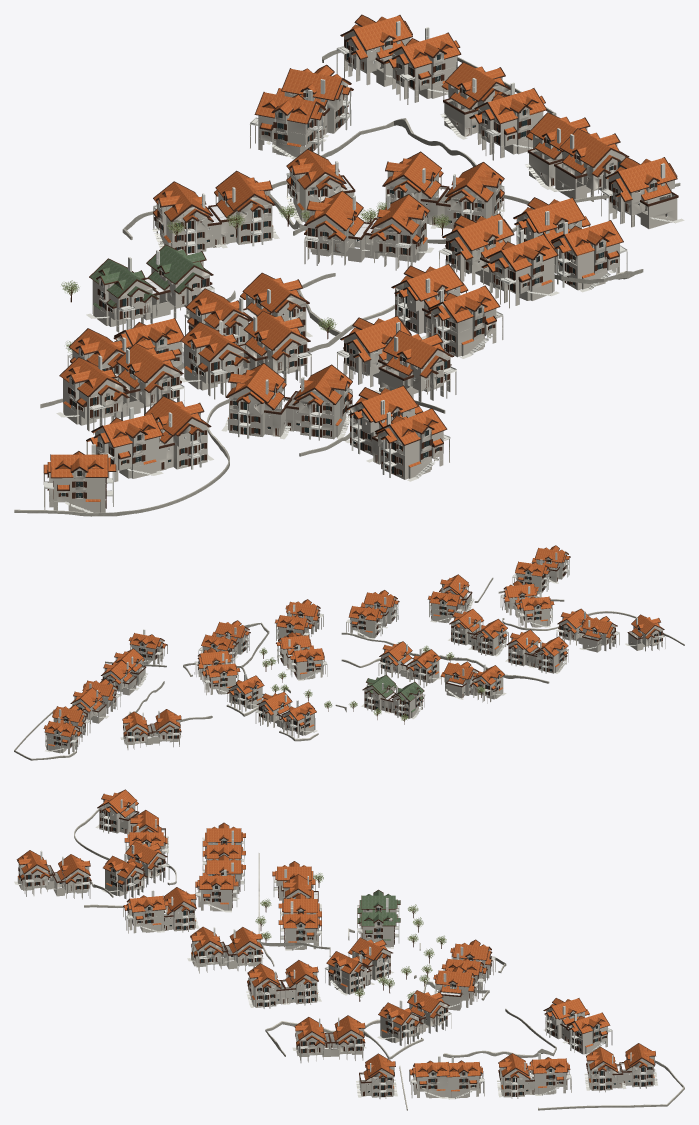
The model's file is evrebina-opt-v8-DRACO.glb.
3 renders of one model, top to bottom at view 1: azimuth 30°, elevation 25°; view 2: azimuth 150°, elevation 25°; view 3: azimuth 270°, elevation 25°, orthographic. The views are drawn at different scales.
Visible parts, largest first — view 1: neighbor_wall.001, roof.001, wood_dark.004, white_trim.001, Context glazing.001, R31 | R39 surrounding retaining stone.001, Neighbor 20 green tiles.001, R31 | R39 boundary limestone top.001, foliage_light.001; view 2: neighbor_wall.001, roof.001, wood_dark.004, white_trim.001, R31 | R39 surrounding retaining stone.001, Context glazing.001, R31 | R39 boundary limestone top.001, Neighbor 20 green tiles.001, foliage_light.001; view 3: neighbor_wall.001, roof.001, wood_dark.004, white_trim.001, R31 | R39 surrounding retaining stone.001, Context glazing.001, R31 | R39 boundary limestone top.001, Neighbor 20 green tiles.001, foliage_light.001.
Boxes of the visible parts, left/top/right/bottom form: neighbor_wall.001: left=43, top=25, right=677, bottom=512; roof.001: left=44, top=15, right=676, bottom=501; wood_dark.004: left=43, top=14, right=678, bottom=508; white_trim.001: left=44, top=21, right=684, bottom=512; Context glazing.001: left=61, top=41, right=668, bottom=497; R31 | R39 surrounding retaining stone.001: left=14, top=50, right=680, bottom=516; Neighbor 20 green tiles.001: left=90, top=245, right=210, bottom=309; R31 | R39 boundary limestone top.001: left=14, top=50, right=679, bottom=513; foliage_light.001: left=61, top=201, right=450, bottom=352; neighbor_wall.001: left=46, top=553, right=665, bottom=754; roof.001: left=44, top=545, right=662, bottom=746; wood_dark.004: left=43, top=545, right=664, bottom=747; white_trim.001: left=45, top=552, right=665, bottom=751; R31 | R39 surrounding retaining stone.001: left=14, top=578, right=684, bottom=760; Context glazing.001: left=56, top=560, right=660, bottom=746; R31 | R39 boundary limestone top.001: left=14, top=577, right=684, bottom=759; Neighbor 20 green tiles.001: left=364, top=675, right=423, bottom=712; foliage_light.001: left=259, top=642, right=485, bottom=720; neighbor_wall.001: left=17, top=799, right=654, bottom=1098; roof.001: left=17, top=790, right=655, bottom=1091; wood_dark.004: left=16, top=789, right=655, bottom=1096; white_trim.001: left=14, top=799, right=657, bottom=1099; R31 | R39 surrounding retaining stone.001: left=74, top=809, right=684, bottom=1110; Context glazing.001: left=19, top=806, right=650, bottom=1096; R31 | R39 boundary limestone top.001: left=74, top=808, right=684, bottom=1108; Neighbor 20 green tiles.001: left=357, top=890, right=400, bottom=940; foliage_light.001: left=255, top=873, right=446, bottom=998.
Bounding box in the file's own units: 253 × 40.47 × 270.
10 materials, 4 textured.
